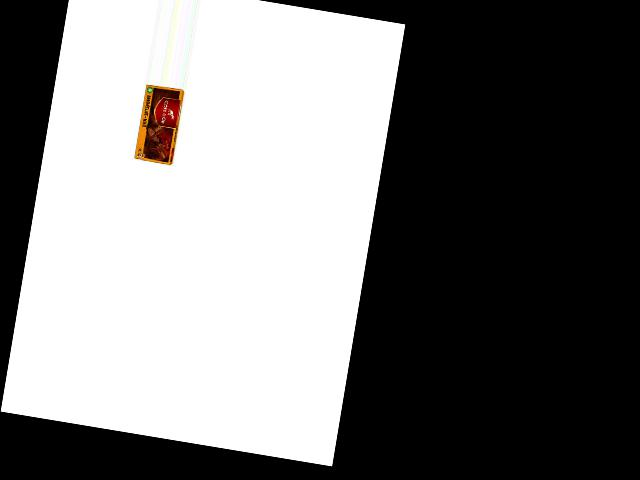chocolate: (127, 82, 186, 167)
